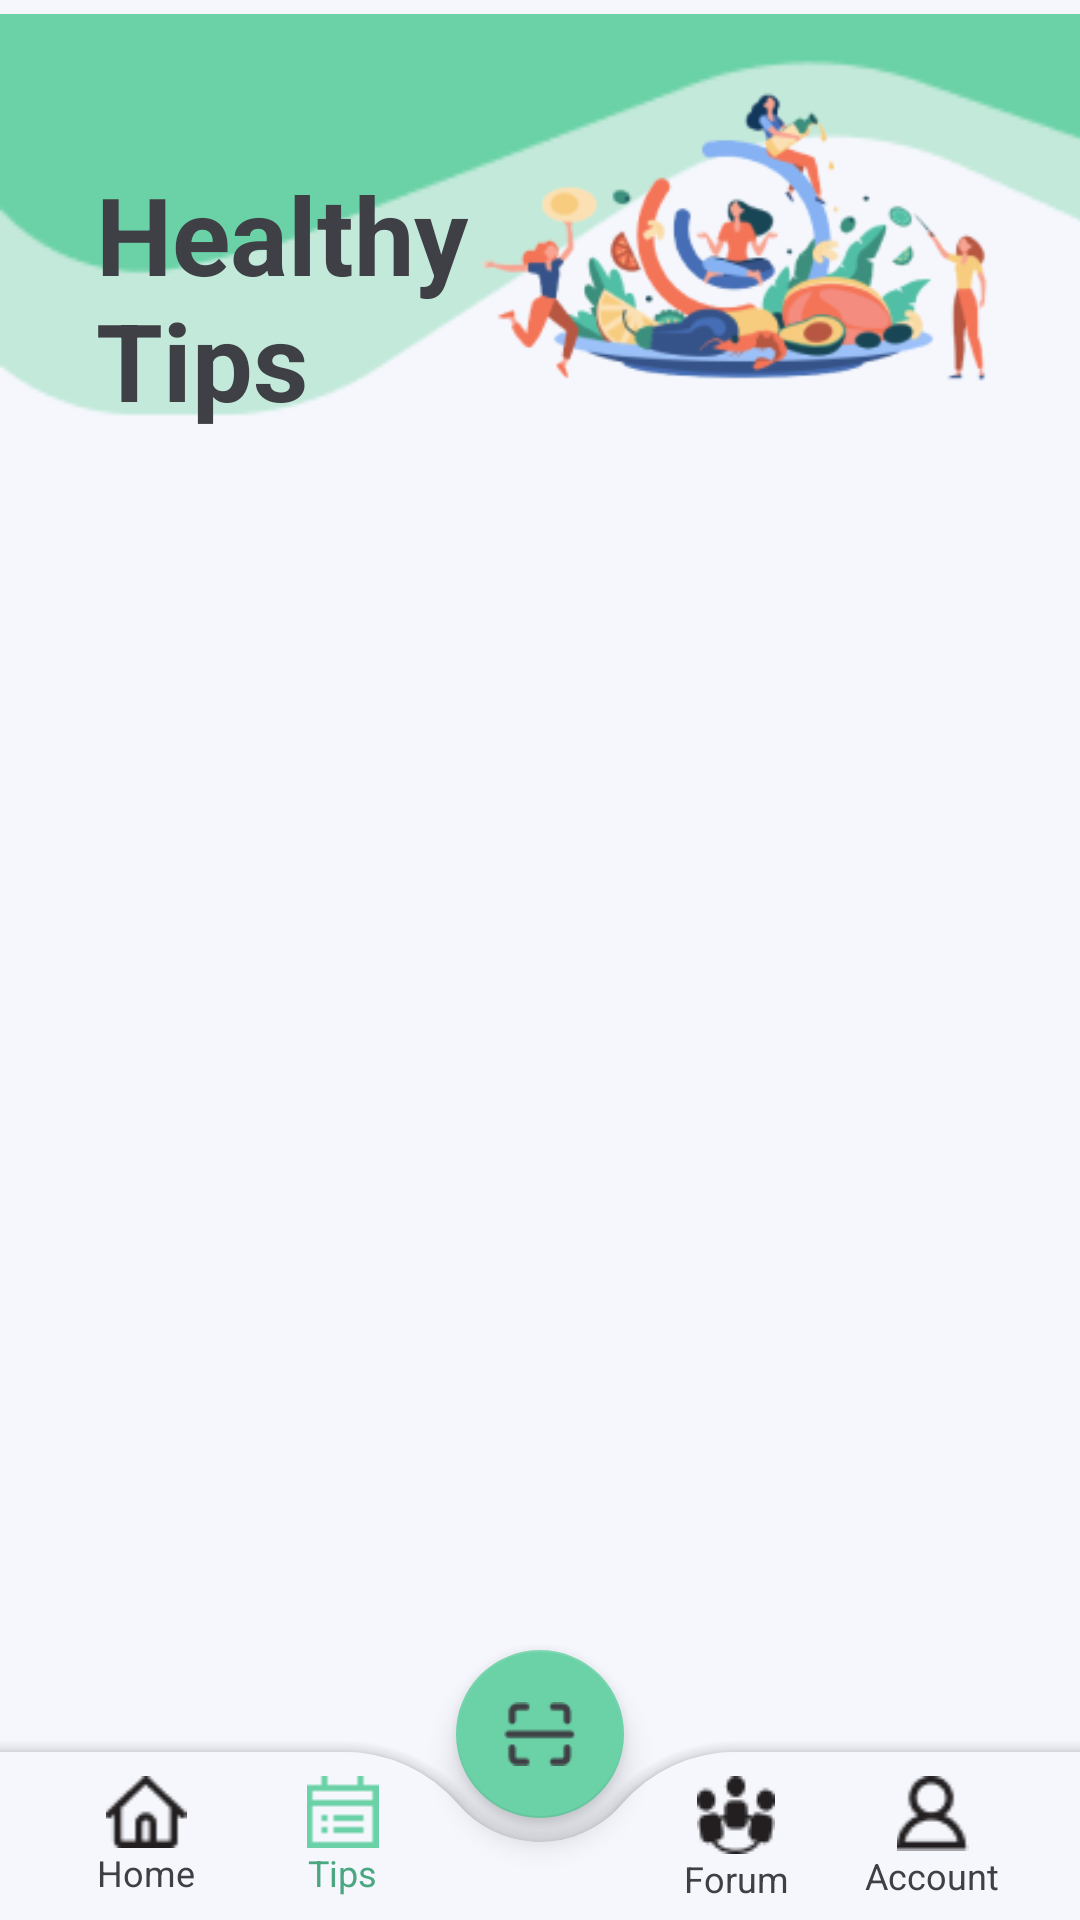

Locate icon controls on the screen. Image size 1080 × 1920, boxes as (x1, y1, x2, y2).
ini scan button: (456, 1668, 624, 1836)
